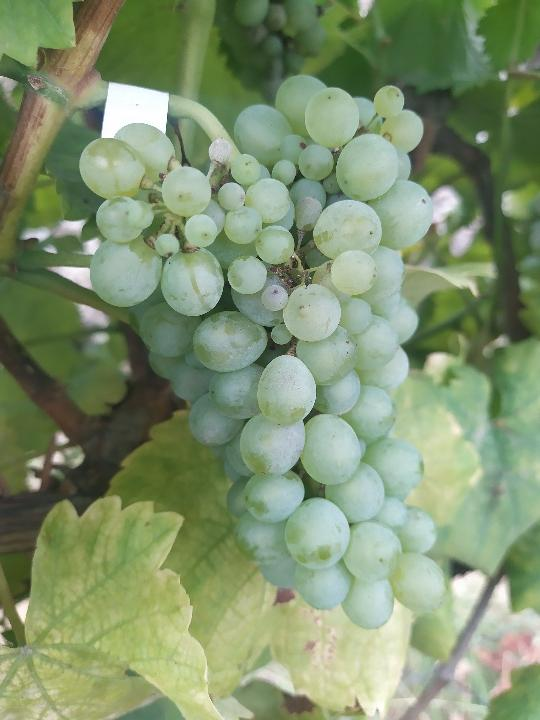grape: (77, 71, 448, 632)
